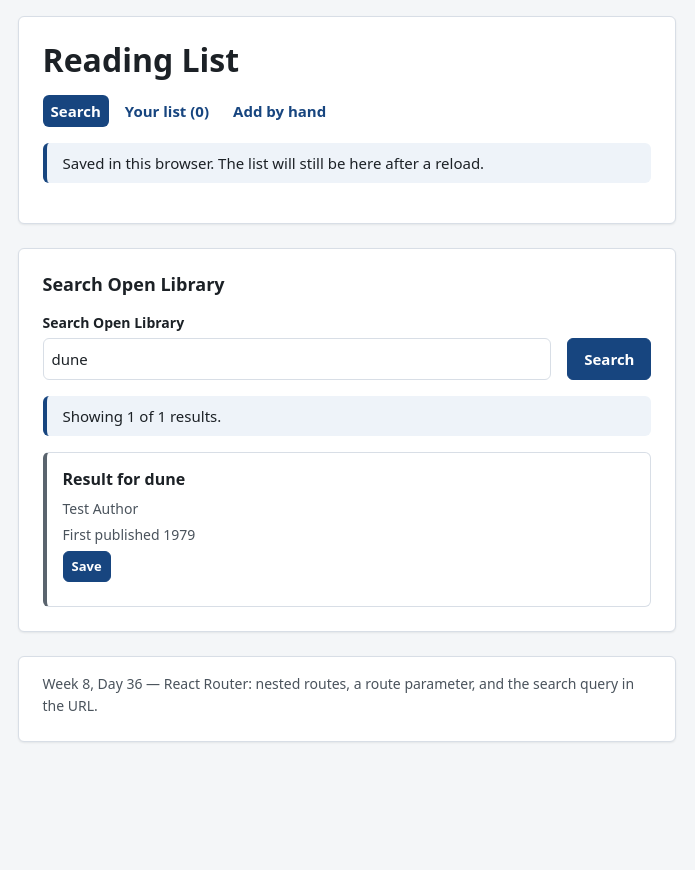
Test: search to list, end to end › saves a result and shows it on the list route
The width and height of the screenshot is (695, 870).
Step 1. Click the button "Save" → point(87, 566), box [62,551,111,582]
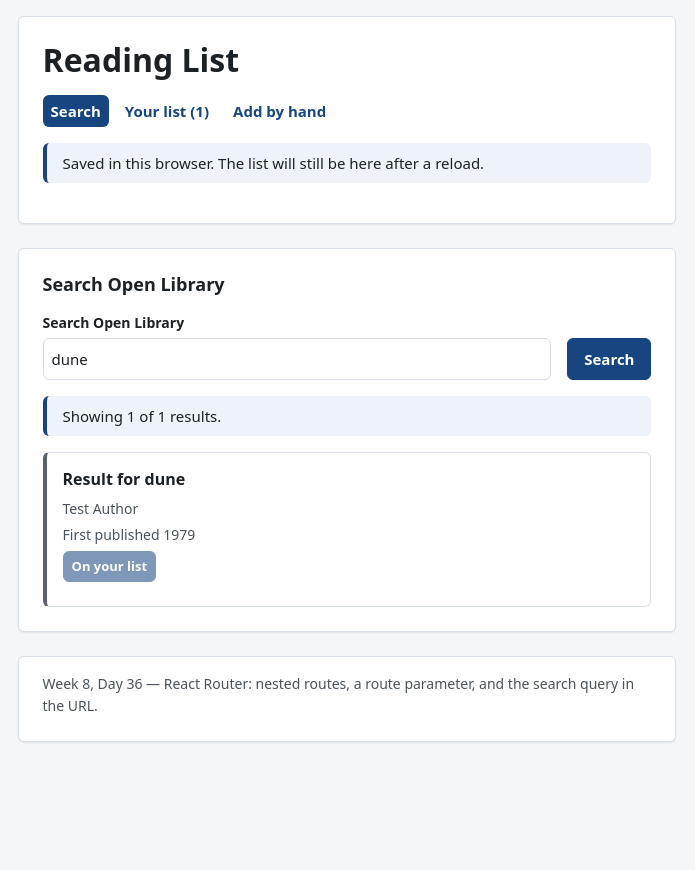
Expected: the button "On your list" is disabled, [62,551,156,582]
Step 2. Click the link "Your list (1)" → point(167, 111), box [125,101,209,121]
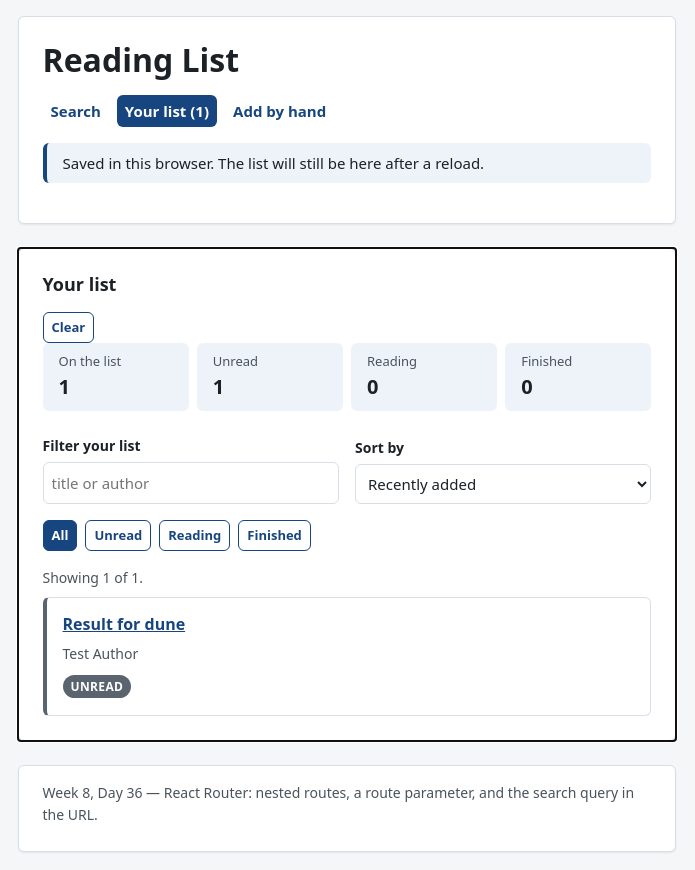
Expected: the link "Result for dune" is shown, [62,613,185,635]
Expected: the heading "Your list" is shown, [42,272,116,296]
